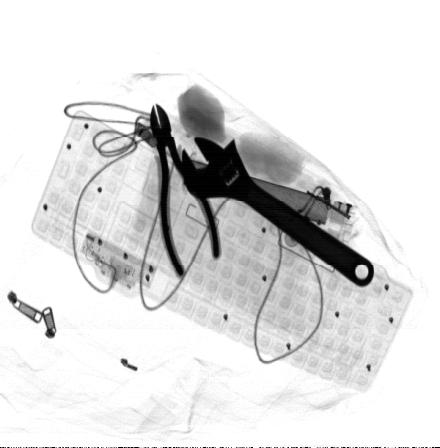Pliers: (149, 100, 224, 280)
Wrench: (180, 134, 374, 287)
